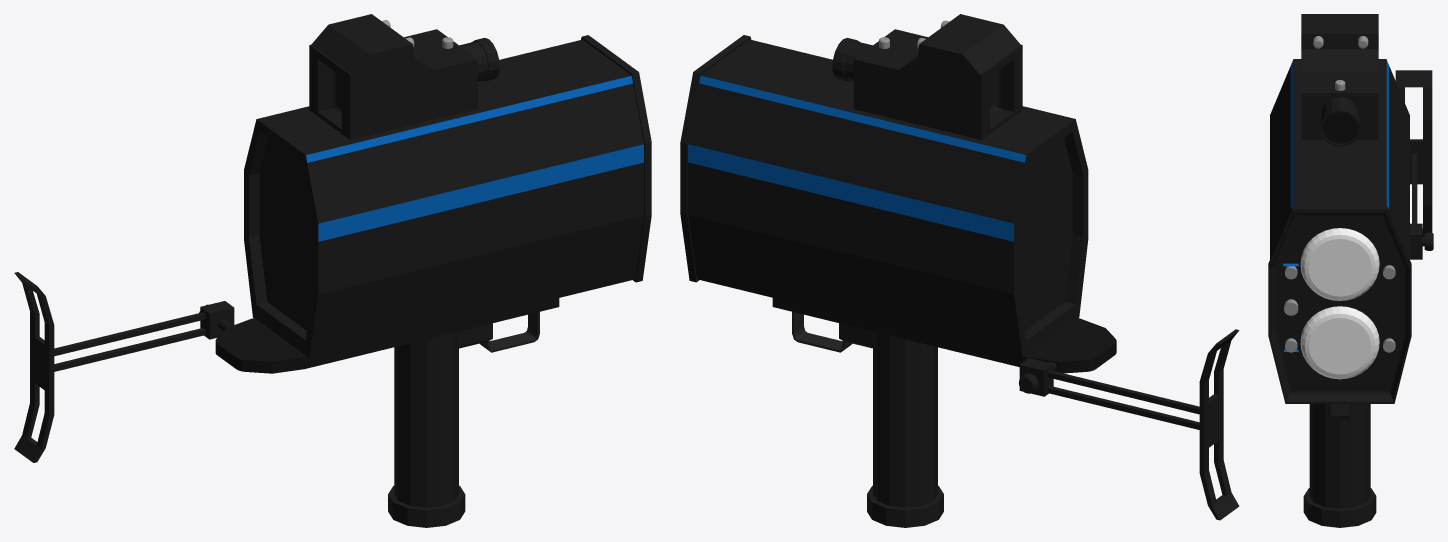
File: pistoletradar.obj
3 views of the same model, side by side, from view 1: azimuth 30°, elevation 25°; view 2: azimuth 150°, elevation 25°; view 3: azimuth 270°, elevation 25° (orthographic). The views are drawn at different scales.
Parts seen in each view (by area): view 1: Cube.001_Cube.002; view 2: Cube.001_Cube.002; view 3: Cube.001_Cube.002.
Part boxes in pixels (box(x1,y1,x2,y2)): Cube.001_Cube.002: box(14, 14, 651, 527); Cube.001_Cube.002: box(680, 14, 1239, 527); Cube.001_Cube.002: box(1268, 14, 1433, 527).
Bounding box in the file's own units: 0.5402 × 0.4591 × 0.1488.
Materials: 1 (1 with a texture image).
